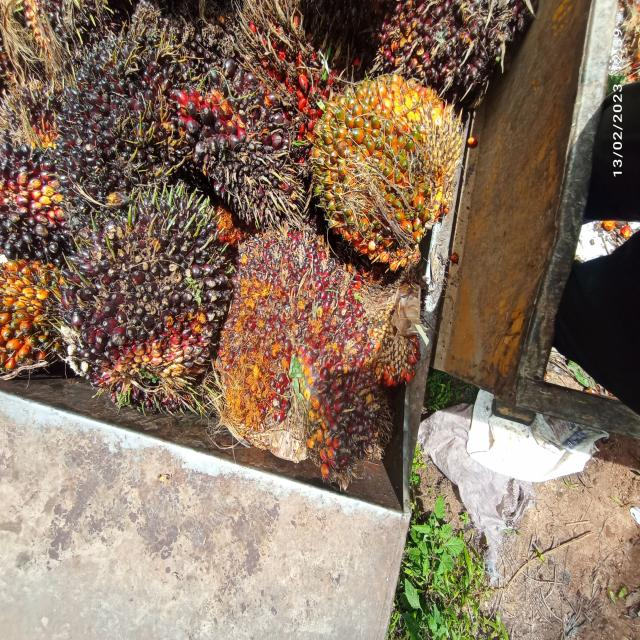fraksi 1: (40, 187, 226, 413), (22, 0, 162, 208), (168, 56, 312, 218), (293, 333, 382, 518)
fraksi 3: (204, 238, 378, 527)
